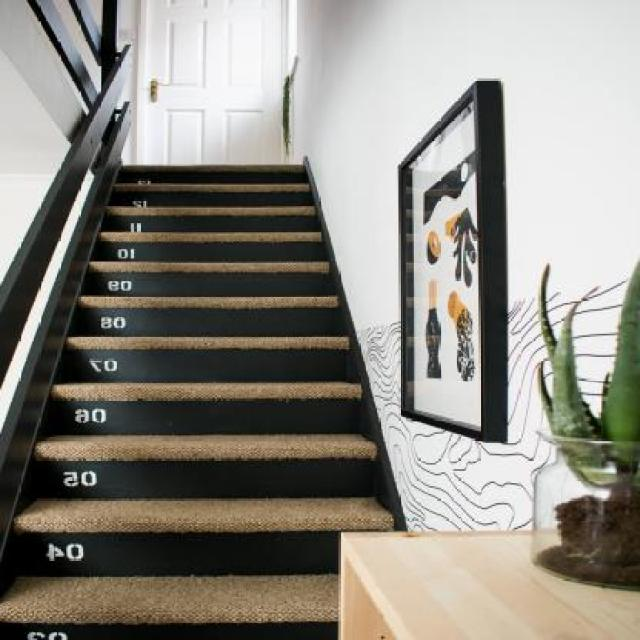stair: (1, 104, 424, 640)
